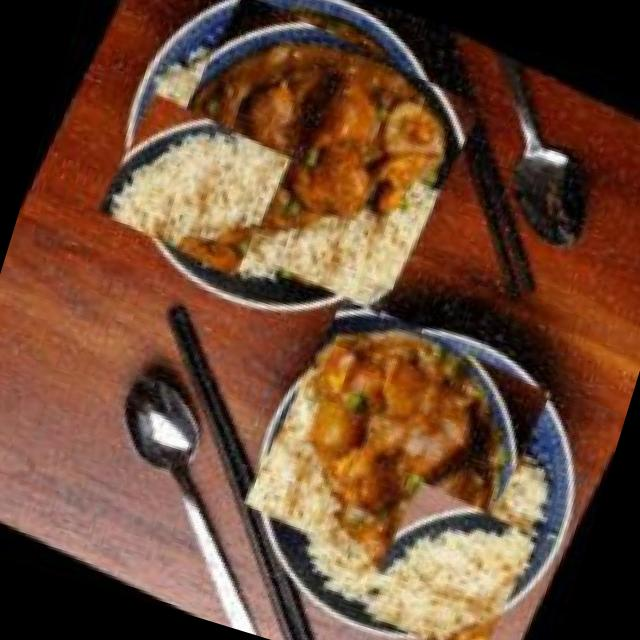curry: (134, 0, 490, 328), (230, 282, 562, 614)
rice: (92, 81, 296, 285), (351, 472, 545, 640)
